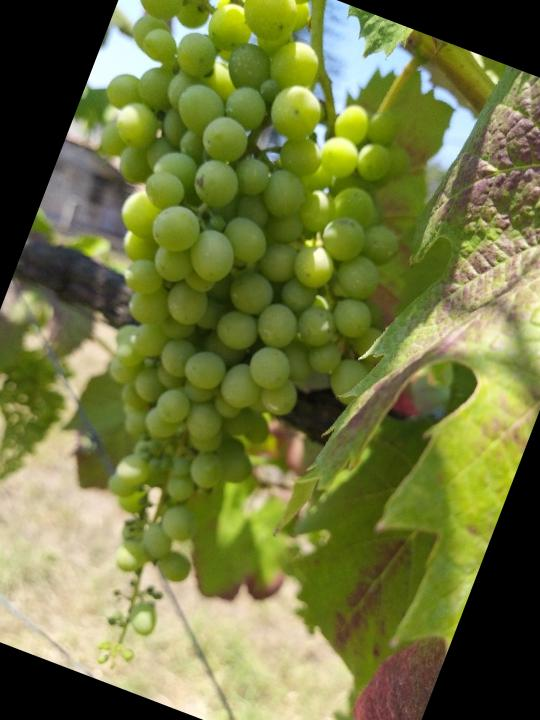grape: (0, 0, 495, 720)
